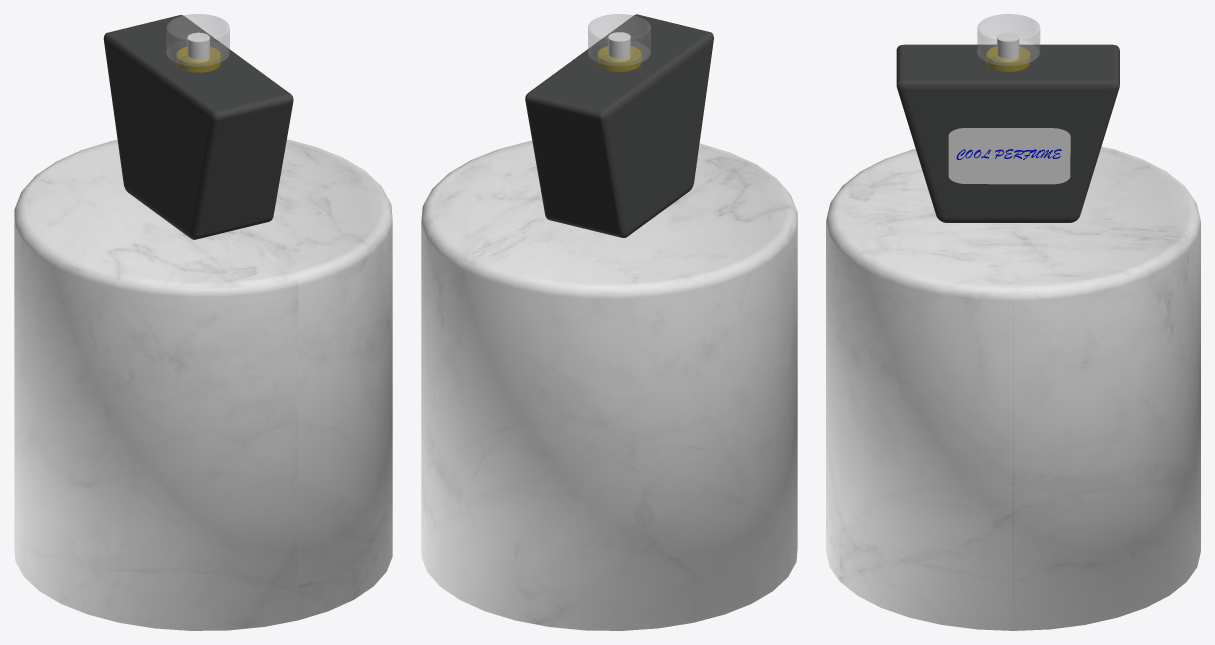
3 views of the same model, side by side, from view 1: azimuth 30°, elevation 25°; view 2: azimuth 150°, elevation 25°; view 3: azimuth 270°, elevation 25° (orthographic).
Parts seen in each view (by area): view 1: Cylinder.003, Cube, Cylinder.002, Cylinder, Cylinder.001; view 2: Cylinder.003, Cube, Cylinder.002, Cylinder, Cylinder.001; view 3: Cylinder.003, Cube, Plane.001, Cylinder.002, Cylinder, Cylinder.001, Text.
Part boxes in pixels (bbox=[...]): Cylinder.003: bbox=[14, 139, 392, 630]; Cube: bbox=[103, 15, 293, 239]; Cylinder.002: bbox=[166, 14, 229, 66]; Cylinder: bbox=[176, 47, 220, 72]; Cylinder.001: bbox=[187, 32, 209, 62]; Cylinder.003: bbox=[421, 141, 797, 630]; Cube: bbox=[525, 14, 713, 237]; Cylinder.002: bbox=[588, 14, 650, 65]; Cylinder: bbox=[598, 46, 641, 71]; Cylinder.001: bbox=[608, 32, 630, 61]; Cylinder.003: bbox=[826, 146, 1200, 630]; Cube: bbox=[896, 44, 1119, 222]; Plane.001: bbox=[948, 128, 1070, 184]; Cylinder.002: bbox=[977, 14, 1039, 65]; Cylinder: bbox=[986, 46, 1029, 71]; Cylinder.001: bbox=[997, 32, 1019, 61]; Text: bbox=[956, 149, 1061, 159].
Bounding box in the file's own units: 12.06 × 18.52 × 12.06.
6 materials, 1 textured.
